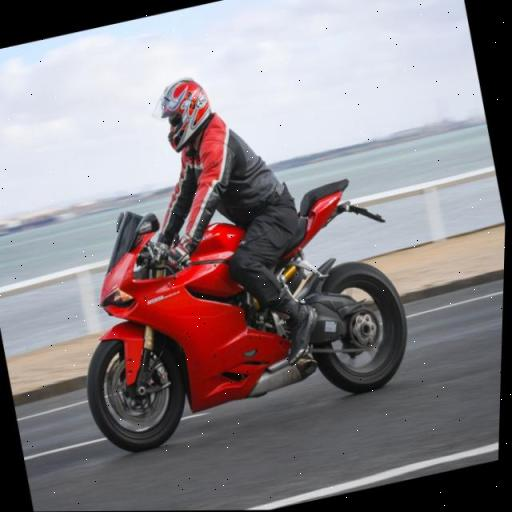Helmet: (145, 71, 223, 158)
Motor: (50, 134, 434, 469)
